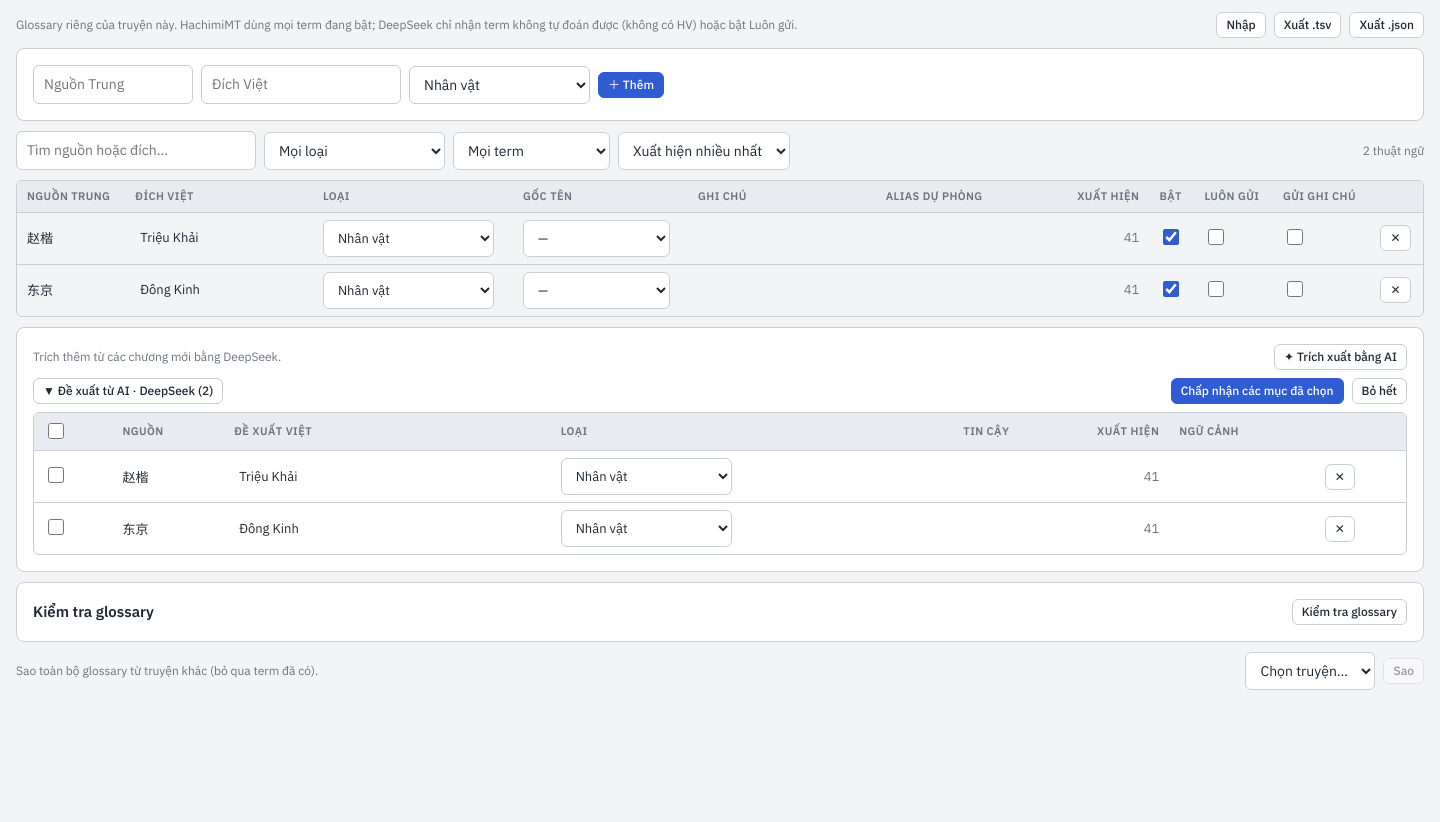
nhiều lần sửa gộp (hợp) các chương bị ảnh hưởng thay vì ghi đè
This screenshot has width=1440, height=822.
Replace the text in the field named "Đích Việt của 赵楷" with "A": x=219, y=238 [135,225,303,251]
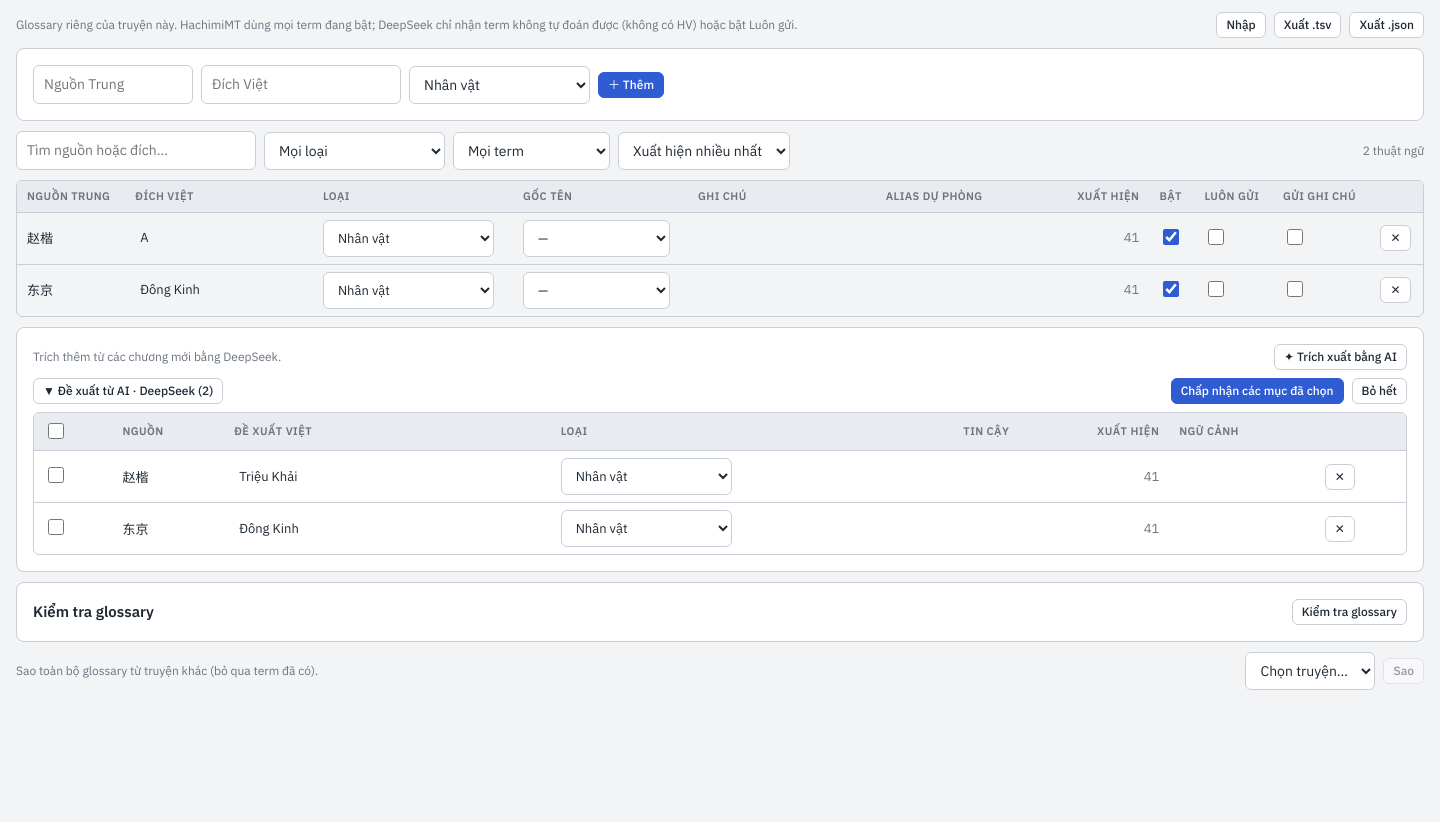
Replace the text in the field named "Đích Việt của 东京" with "B": x=219, y=290 [135,277,303,303]
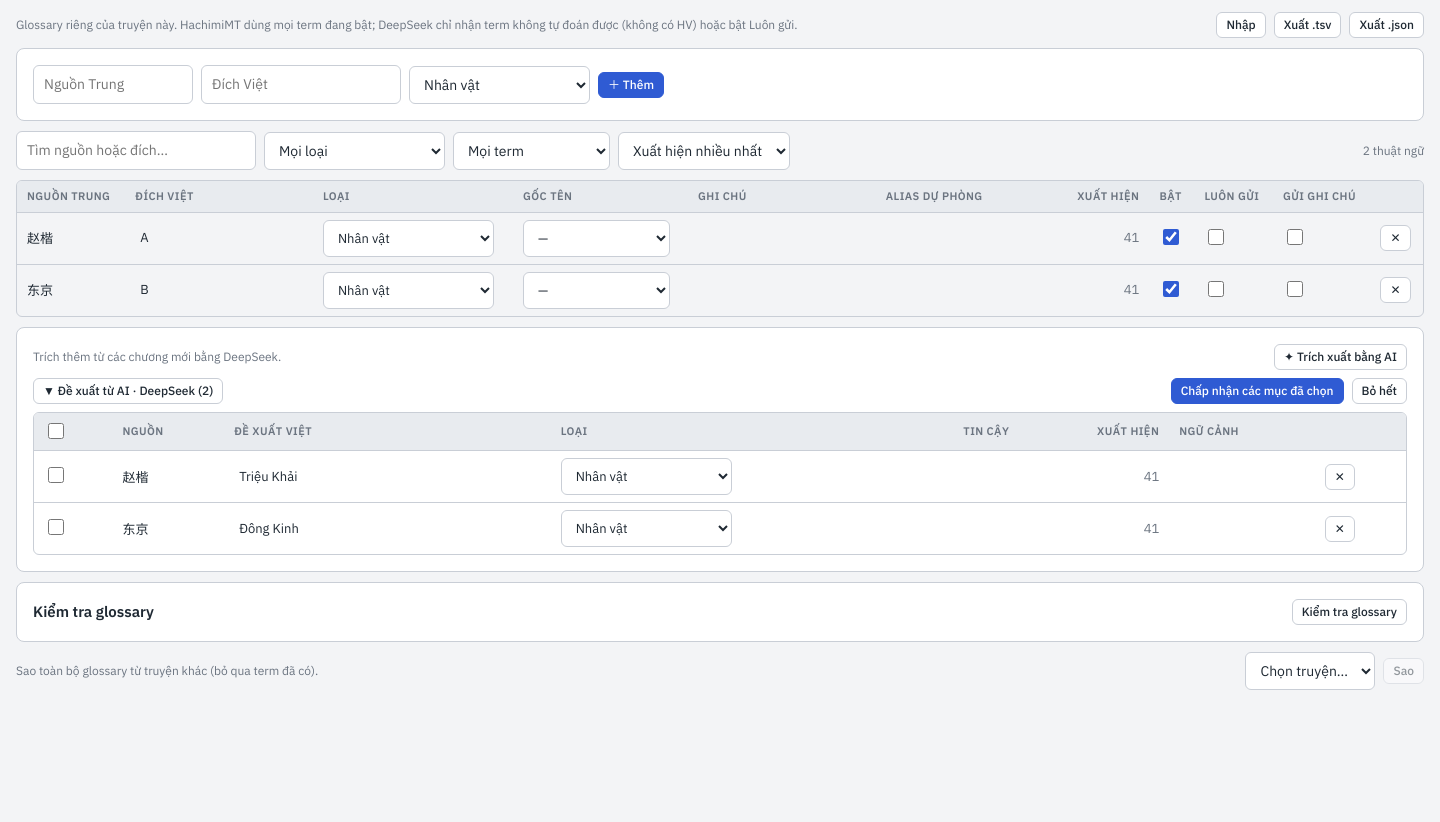
Leave the field named "Đích Việt của 东京", box [135,277,303,303]
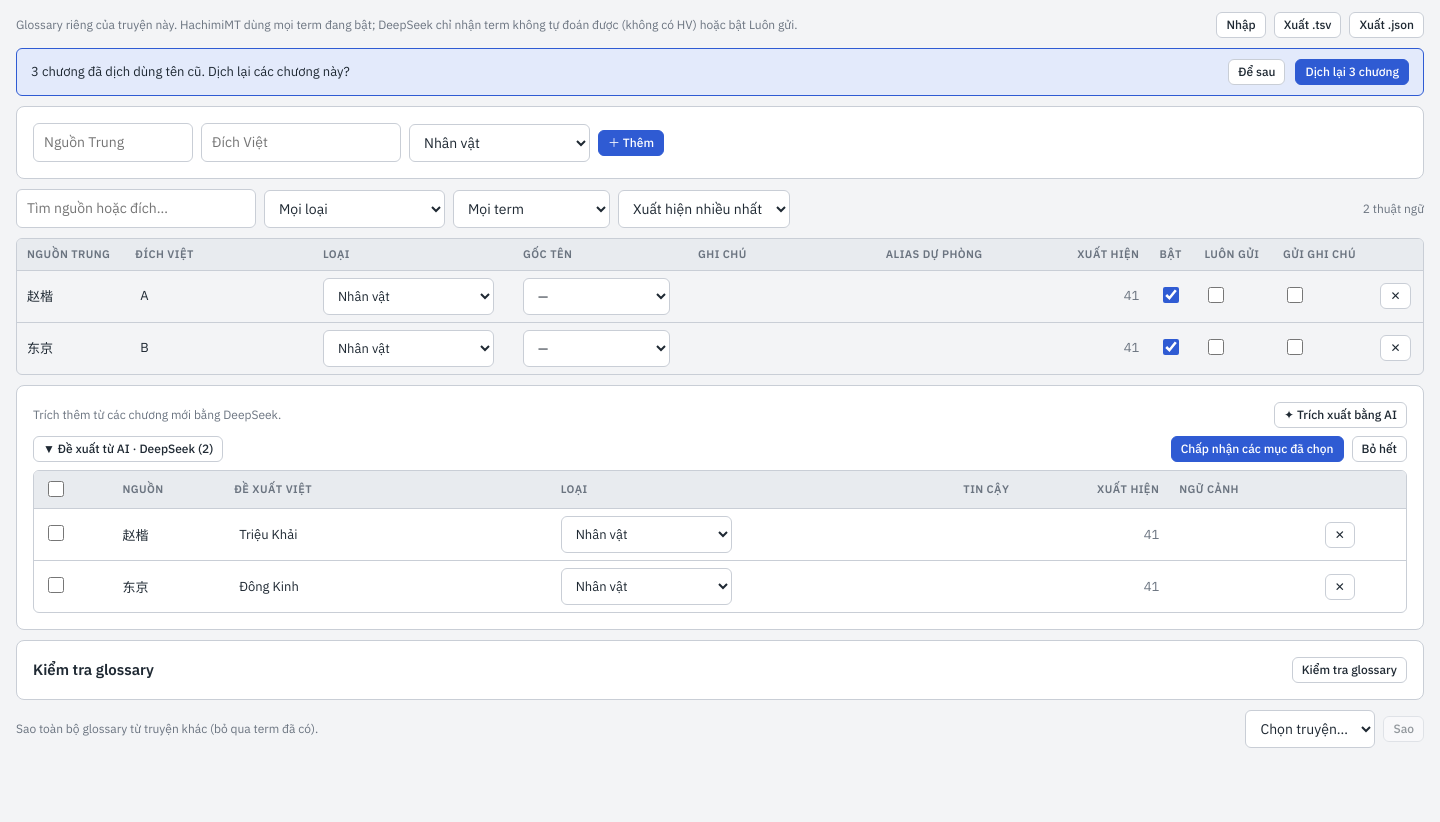
Now the button "Dịch lại 3 chương" is shown, box [1296,59,1409,85]
